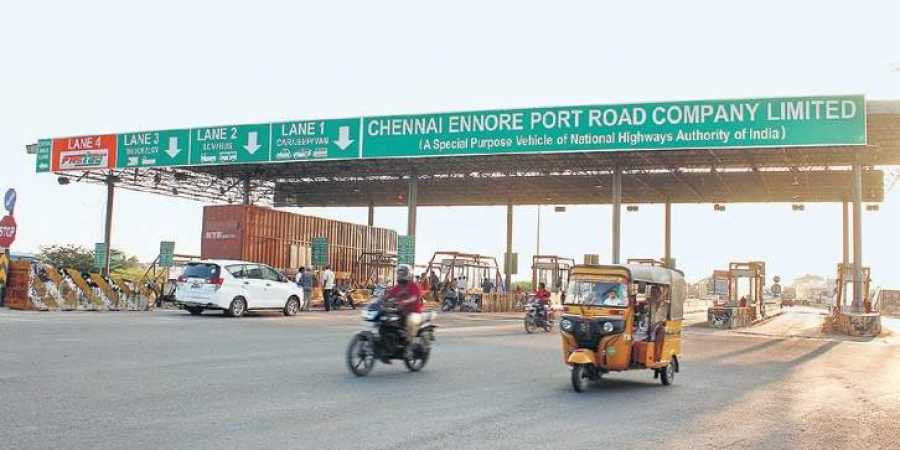toll plaza: (14, 91, 892, 268)
